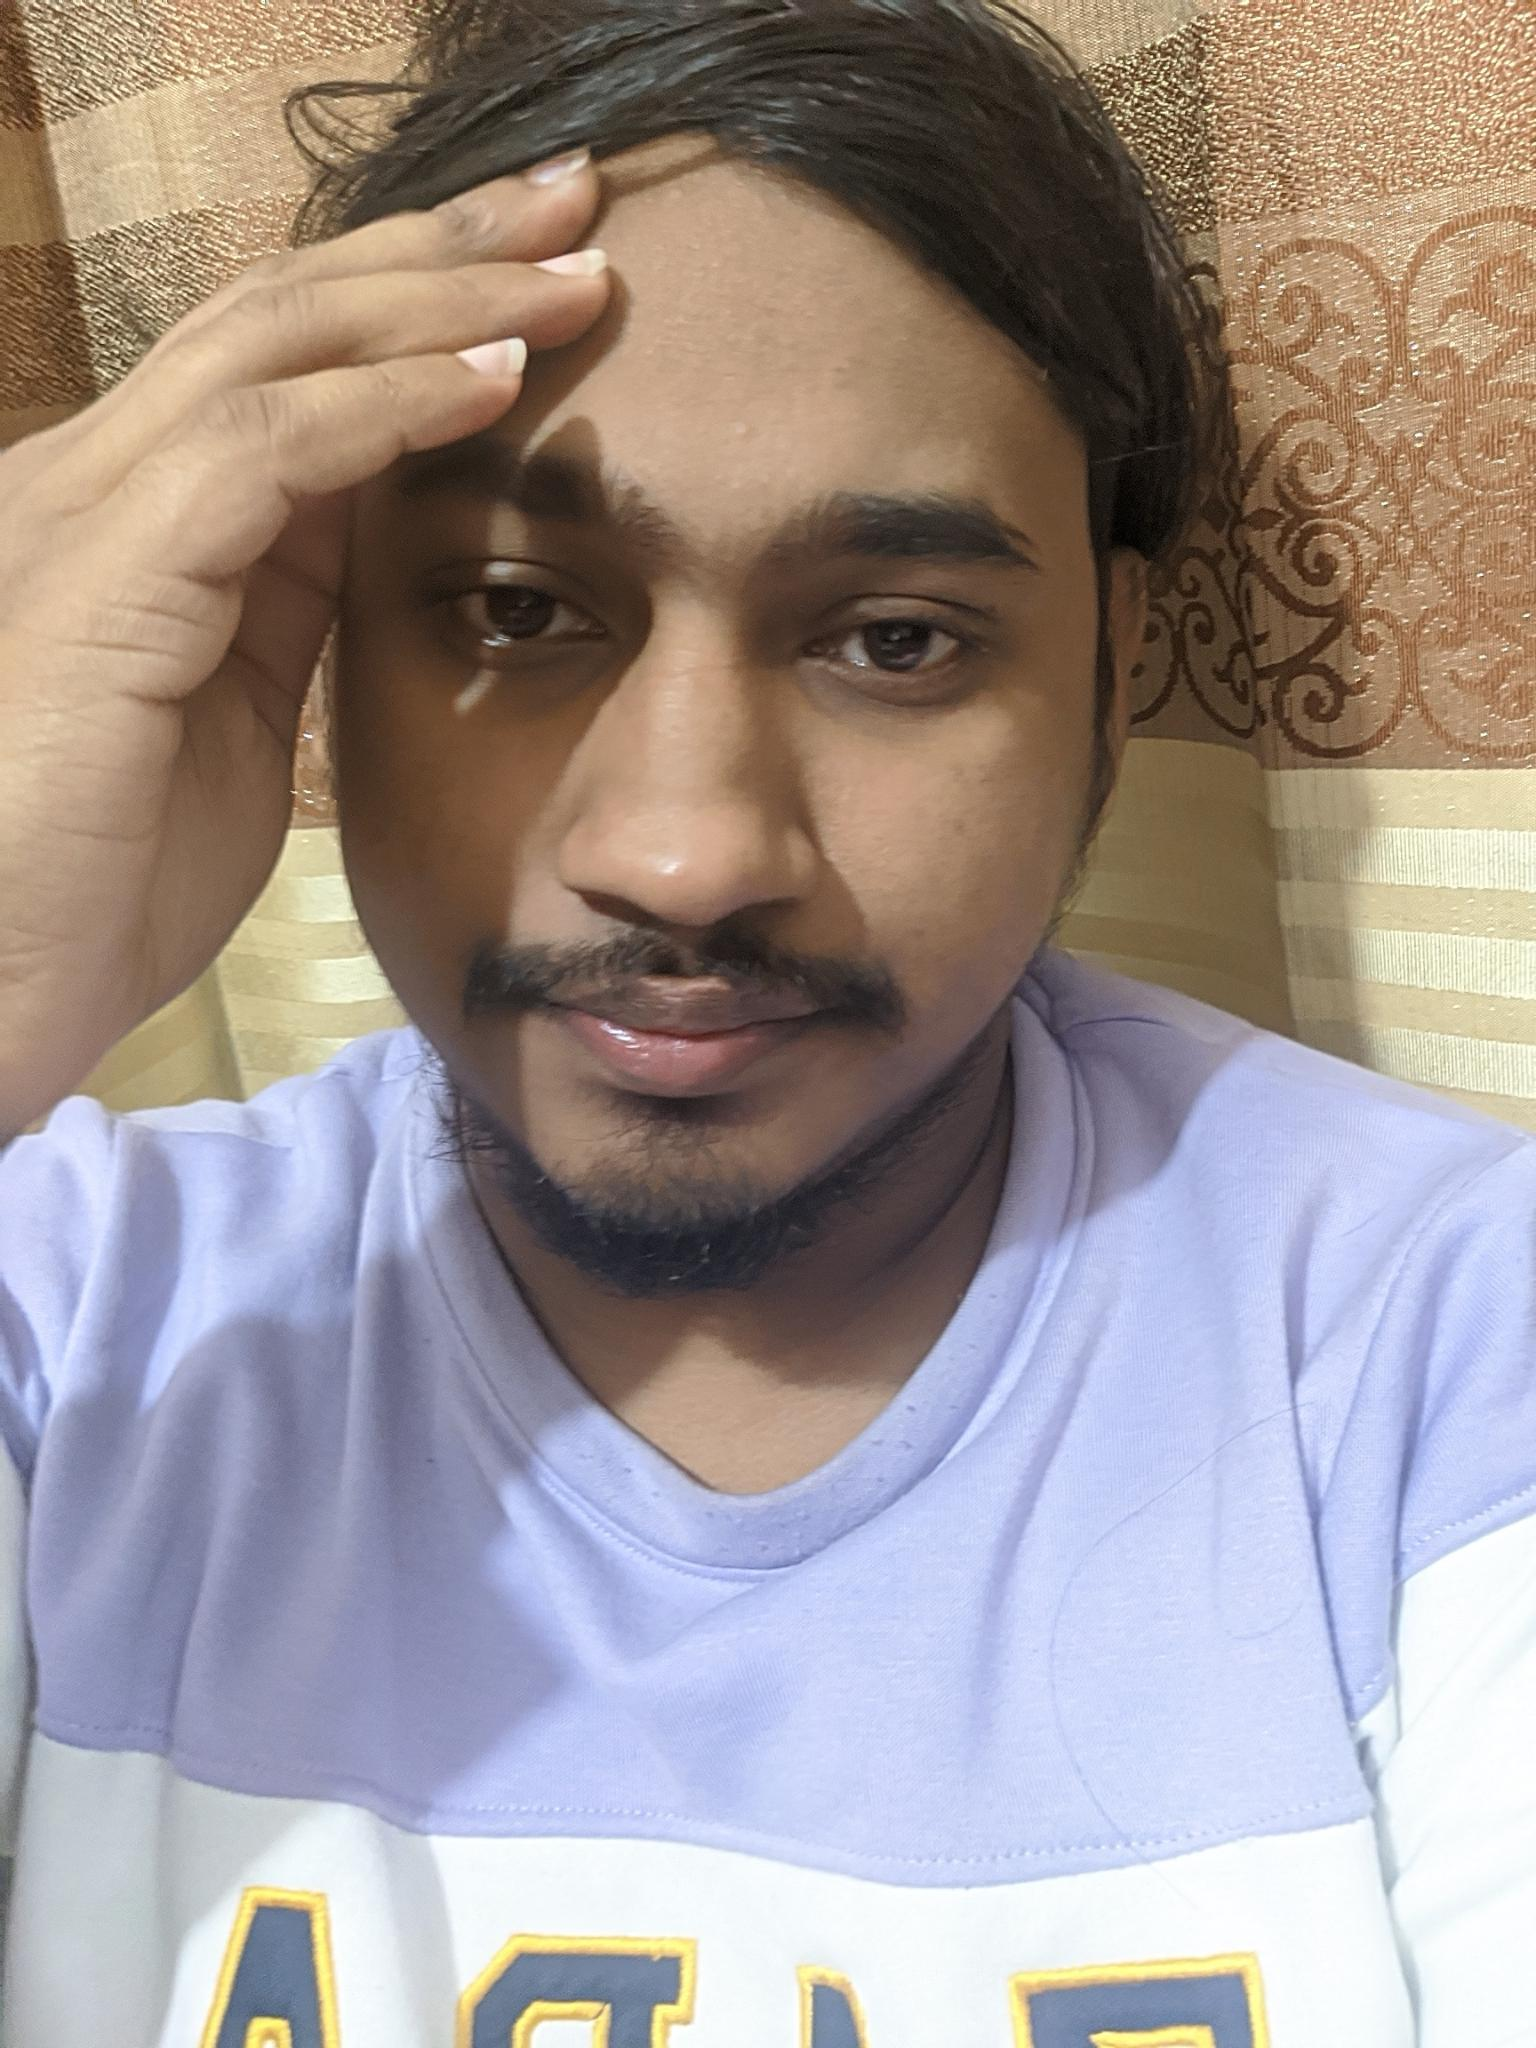Neutral: (303, 313, 1087, 1251)
